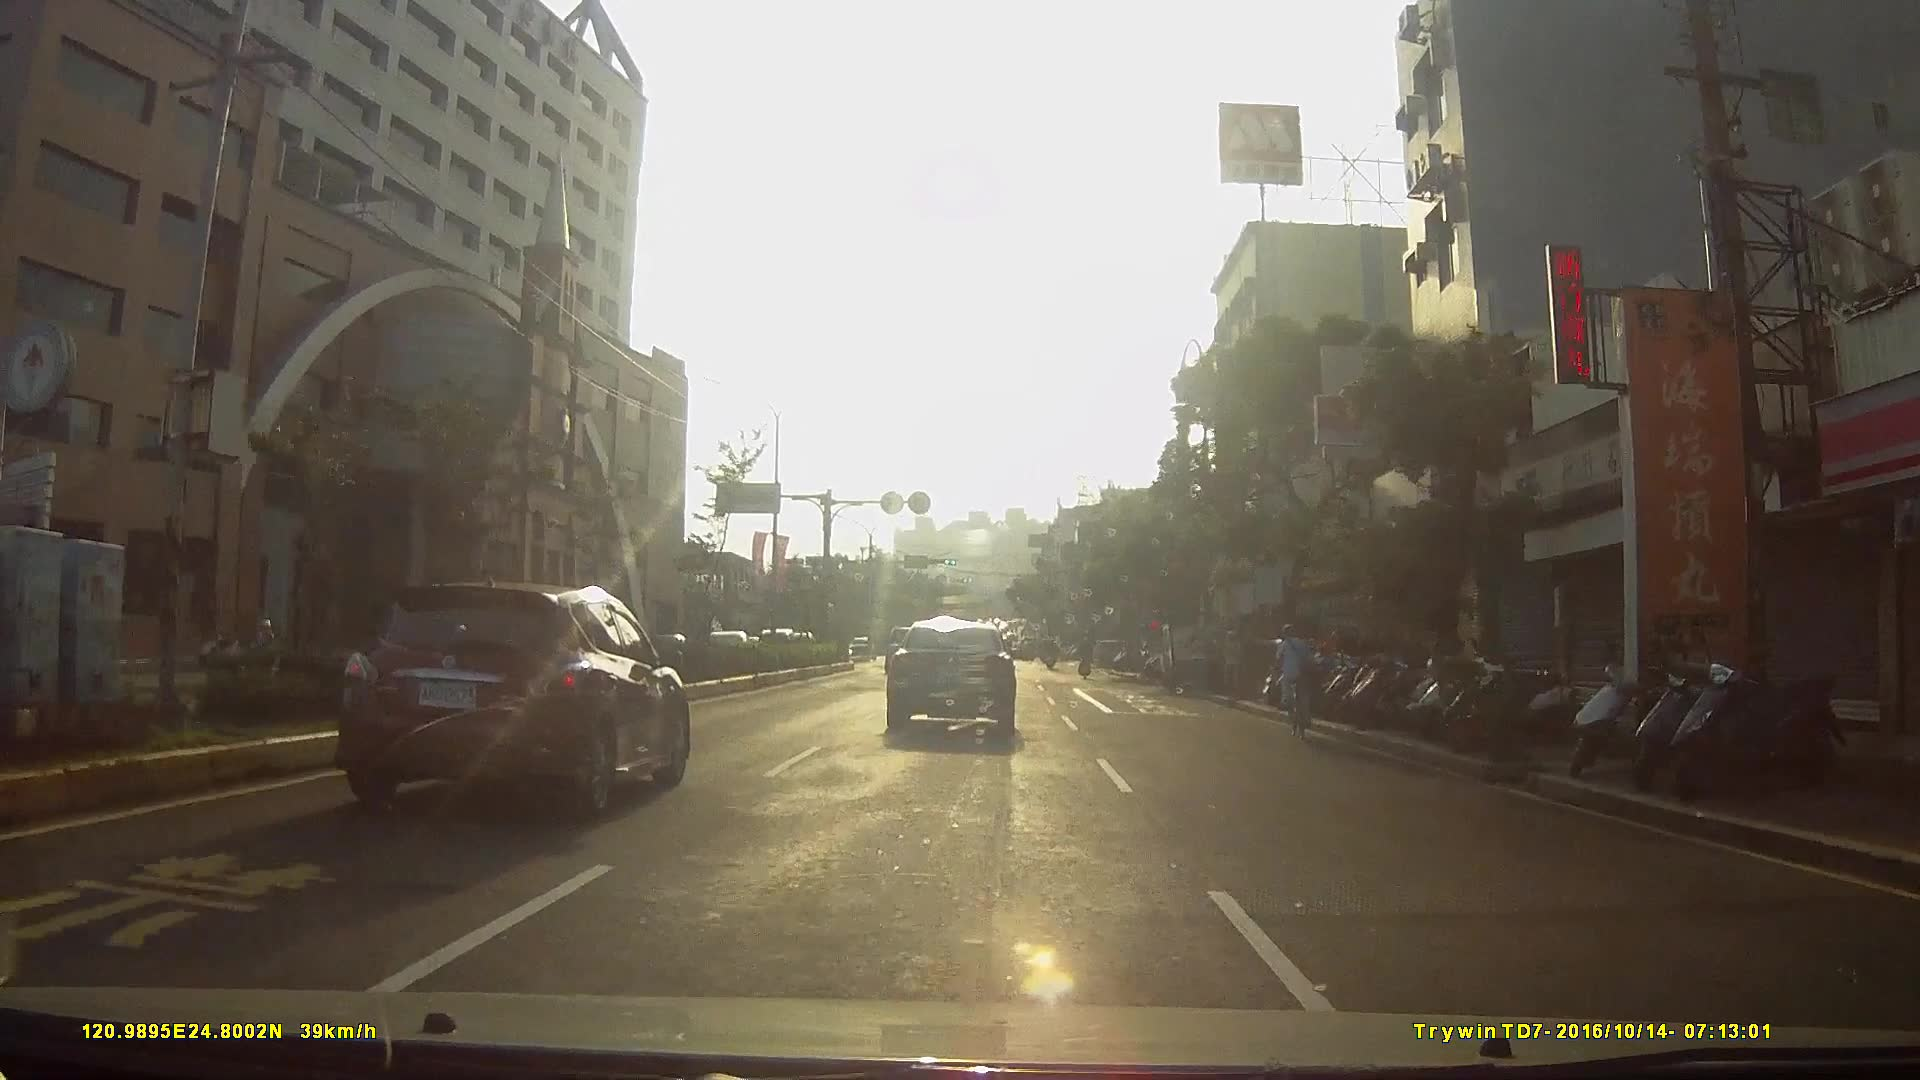rider: (1272, 620, 1320, 740)
vehicle: (331, 573, 703, 819), (880, 612, 1030, 743), (1156, 613, 1231, 688), (763, 607, 822, 662)
